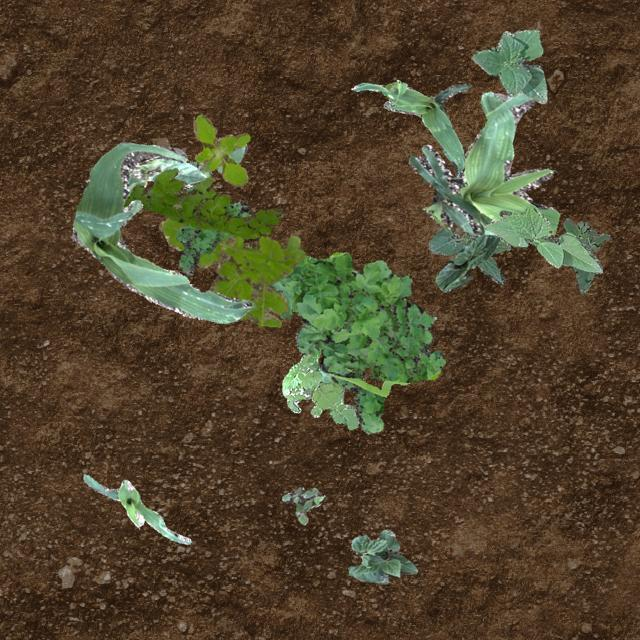crop: (72, 142, 254, 322), (408, 90, 558, 238), (350, 78, 470, 176), (482, 202, 602, 272), (82, 473, 190, 543), (471, 29, 546, 102), (428, 226, 510, 284), (435, 230, 499, 290), (346, 528, 416, 582), (126, 156, 206, 194), (184, 142, 247, 190)
weed: (270, 252, 444, 432), (158, 216, 304, 326), (121, 166, 282, 238), (282, 348, 358, 428), (174, 200, 252, 274), (192, 112, 250, 186), (562, 216, 608, 294), (282, 486, 324, 524)
